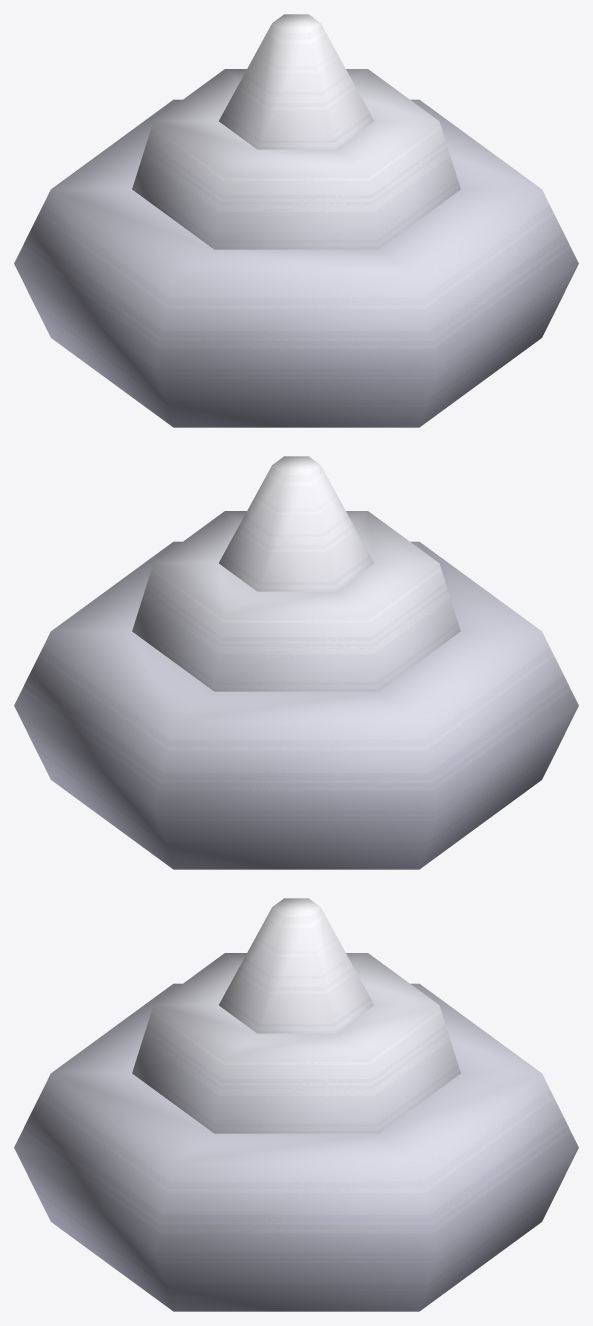
The model's file is food-whipped-cream.glb.
The picture shows the model from 3 angles, top to bottom: view 1: azimuth 30°, elevation 25°; view 2: azimuth 150°, elevation 25°; view 3: azimuth 270°, elevation 25°; orthographic projection.
Parts seen in each view (by area): view 1: whipped-cream; view 2: whipped-cream; view 3: whipped-cream.
Boxes of the visible parts, bbox=[...] form: whipped-cream: bbox=[14, 14, 578, 427]; whipped-cream: bbox=[14, 456, 578, 869]; whipped-cream: bbox=[14, 898, 578, 1311].
Size of the model in its own units: 0.1362 by 0.0967 by 0.1573.
Materials: 1 (1 with a texture image).
